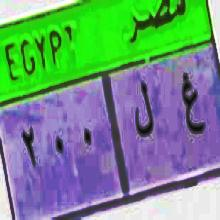0: (80, 117, 94, 157), (53, 125, 66, 162)
2: (21, 122, 38, 172)
ghayn: (174, 66, 208, 140)
laam: (133, 76, 154, 149)
